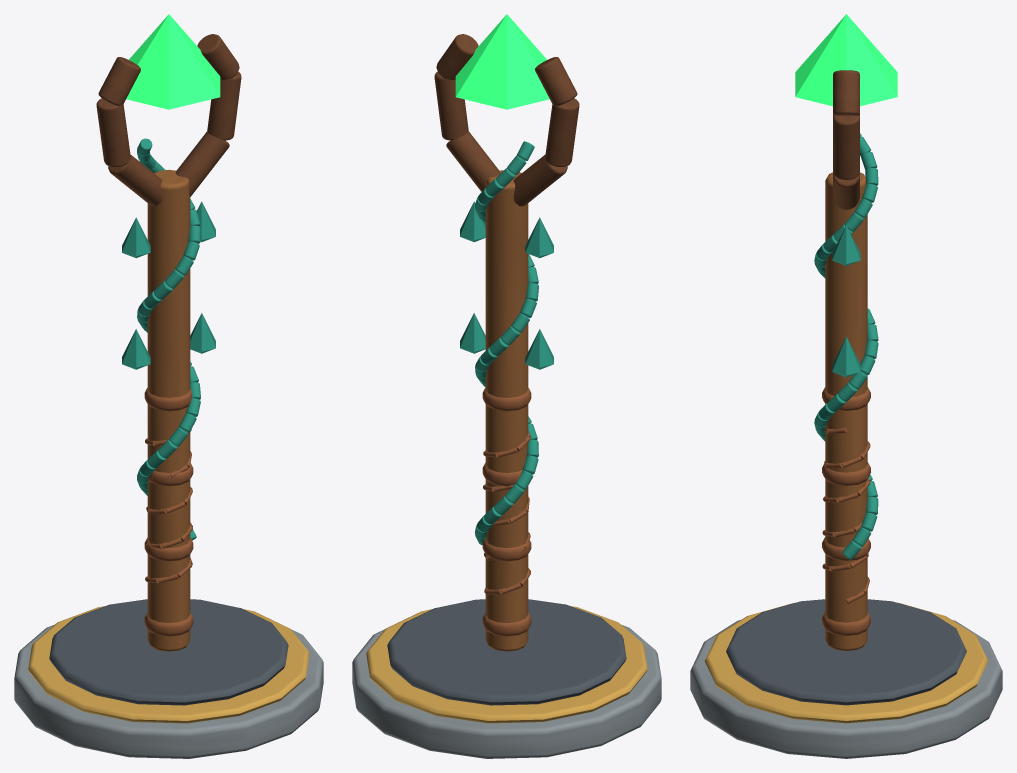
Rendered from luna-staff.glb.
3 renders of one model, left to right at view 1: azimuth 30°, elevation 25°; view 2: azimuth 150°, elevation 25°; view 3: azimuth 270°, elevation 25°, orthographic.
Parts seen in each view (by area): view 1: Display / raised inset.005, Grip / central shaft.003, Display / stone base.005, Display / bronze rim.005, Staff / green nature focus, Staff / branch prong 01, Staff / branch prong 01.001, Staff / branch prong 00.001, Staff / branch prong 00, Staff / branch prong 02, Staff / branch prong 02.001, Vine / leaf.001 (+6 smaller); view 2: Display / raised inset.005, Grip / central shaft.003, Display / stone base.005, Display / bronze rim.005, Staff / green nature focus, Staff / branch prong 01, Staff / branch prong 01.001, Staff / branch prong 00.001, Staff / branch prong 00, Staff / branch prong 02, Staff / branch prong 02.001, Vine / leaf.001 (+6 smaller); view 3: Display / raised inset.005, Grip / central shaft.003, Display / stone base.005, Display / bronze rim.005, Staff / green nature focus, Staff / branch prong 01.001, Staff / branch prong 02.001, Staff / branch prong 00.001, Vine / leaf.003, Vine / leaf.002, Binding / collar.023, Binding / collar.025.
Boxes of the visible parts, left/top/right/bottom form: Display / raised inset.005: left=49, top=599, right=288, bottom=705; Grip / central shaft.003: left=147, top=170, right=190, bottom=651; Display / stone base.005: left=14, top=625, right=323, bottom=758; Display / bronze rim.005: left=28, top=606, right=309, bottom=723; Staff / green nature focus: left=126, top=14, right=220, bottom=109; Staff / branch prong 01: left=96, top=98, right=130, bottom=166; Staff / branch prong 01.001: left=207, top=71, right=241, bottom=140; Staff / branch prong 00.001: left=175, top=131, right=229, bottom=196; Staff / branch prong 00: left=108, top=154, right=162, bottom=206; Staff / branch prong 02: left=98, top=57, right=140, bottom=105; Staff / branch prong 02.001: left=197, top=34, right=239, bottom=79; Vine / leaf.001: left=122, top=217, right=150, bottom=258; Display / raised inset.005: left=387, top=599, right=626, bottom=705; Grip / central shaft.003: left=485, top=170, right=528, bottom=651; Display / stone base.005: left=352, top=625, right=661, bottom=758; Display / bronze rim.005: left=366, top=606, right=647, bottom=723; Staff / green nature focus: left=455, top=14, right=549, bottom=109; Staff / branch prong 01: left=545, top=98, right=579, bottom=166; Staff / branch prong 01.001: left=434, top=71, right=468, bottom=140; Staff / branch prong 00.001: left=446, top=131, right=500, bottom=191; Staff / branch prong 00: left=513, top=154, right=567, bottom=206; Staff / branch prong 02: left=535, top=57, right=577, bottom=105; Staff / branch prong 02.001: left=436, top=34, right=478, bottom=79; Vine / leaf.001: left=525, top=217, right=553, bottom=258; Display / raised inset.005: left=726, top=599, right=966, bottom=705; Grip / central shaft.003: left=825, top=172, right=867, bottom=650; Display / stone base.005: left=690, top=620, right=1002, bottom=758; Display / bronze rim.005: left=705, top=603, right=987, bottom=723; Staff / green nature focus: left=795, top=14, right=897, bottom=106; Staff / branch prong 01.001: left=833, top=115, right=859, bottom=179; Staff / branch prong 02.001: left=833, top=70, right=859, bottom=115; Staff / branch prong 00.001: left=833, top=173, right=859, bottom=209; Vine / leaf.003: left=832, top=225, right=860, bottom=265; Vine / leaf.002: left=832, top=336, right=860, bottom=377; Binding / collar.023: left=822, top=612, right=870, bottom=635; Binding / collar.025: left=822, top=462, right=870, bottom=485.
Size of the model in its own units: 1.32 by 3.18 by 1.32.
8 materials, 4 textured.
